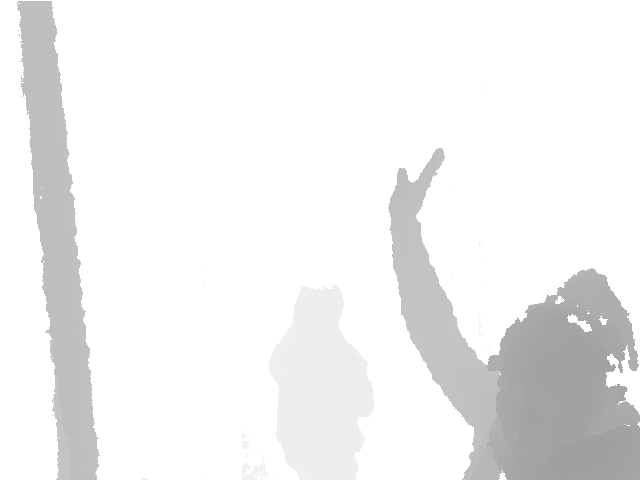hand: (389, 146, 445, 226)
head: (498, 268, 640, 444), (292, 284, 345, 336)
person: (388, 145, 640, 480), (266, 285, 376, 480)
